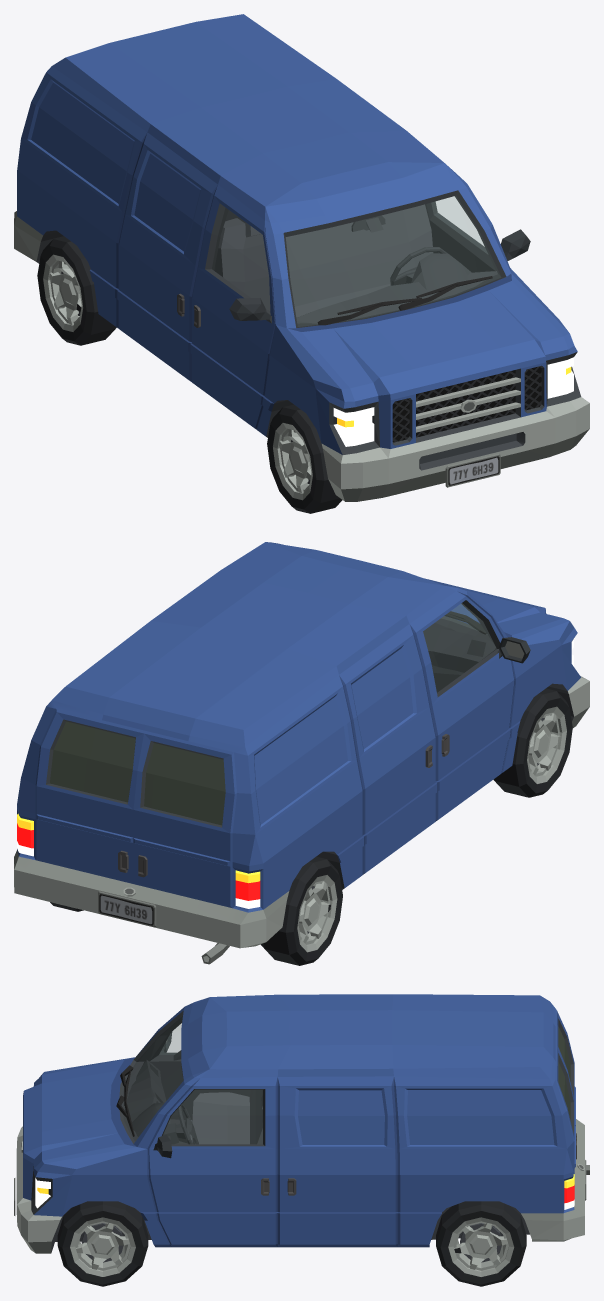
The model's file is SM_Veh_Car_Van_01.fbx.
3 renders of one model, top to bottom at view 1: azimuth 30°, elevation 25°; view 2: azimuth 150°, elevation 25°; view 3: azimuth 270°, elevation 25°, orthographic. The views are drawn at different scales.
Parts seen in each view (by area): view 1: SM_Veh_Car_Van_01, SM_Veh_Car_Van_Glass, SM_Veh_Car_Van_Wheel_rr, SM_Veh_Car_Van_Wheel_fr, SM_Veh_Car_Van_Plates; view 2: SM_Veh_Car_Van_01, SM_Veh_Car_Van_Door_r, SM_Veh_Car_Van_Door_l, SM_Veh_Car_Van_Wheel_rr, SM_Veh_Car_Van_Wheel_fr, SM_Veh_Car_Van_Door_r_Glass, SM_Veh_Car_Van_Door_l_Glass, SM_Veh_Car_Van_Glass, SM_Veh_Car_Van_Plates; view 3: SM_Veh_Car_Van_01, SM_Veh_Car_Van_Glass, SM_Veh_Car_Van_Wheel_rl, SM_Veh_Car_Van_Wheel_fl, SM_Veh_Car_Van_Door_l, SM_Veh_Car_Van_SteeringW, SM_Veh_Car_Van_Door_r.
Part boxes in pixels (<box>): SM_Veh_Car_Van_01: <box>14,14,589,501</box>; SM_Veh_Car_Van_Glass: <box>212,196,500,326</box>; SM_Veh_Car_Van_Wheel_rr: <box>37,236,116,345</box>; SM_Veh_Car_Van_Wheel_fr: <box>267,404,342,513</box>; SM_Veh_Car_Van_Plates: <box>445,453,500,487</box>; SM_Veh_Car_Van_01: <box>14,542,589,964</box>; SM_Veh_Car_Van_Door_r: <box>133,733,234,905</box>; SM_Veh_Car_Van_Door_l: <box>36,712,143,882</box>; SM_Veh_Car_Van_Wheel_rr: <box>260,856,342,965</box>; SM_Veh_Car_Van_Wheel_fr: <box>493,688,572,797</box>; SM_Veh_Car_Van_Door_r_Glass: <box>144,743,225,825</box>; SM_Veh_Car_Van_Door_l_Glass: <box>49,721,135,802</box>; SM_Veh_Car_Van_Glass: <box>423,604,495,691</box>; SM_Veh_Car_Van_Plates: <box>98,891,156,927</box>; SM_Veh_Car_Van_01: <box>16,994,589,1253</box>; SM_Veh_Car_Van_Glass: <box>123,1018,262,1143</box>; SM_Veh_Car_Van_Wheel_rl: <box>436,1201,526,1286</box>; SM_Veh_Car_Van_Wheel_fl: <box>57,1201,148,1286</box>; SM_Veh_Car_Van_Door_l: <box>557,1046,576,1167</box>; SM_Veh_Car_Van_SteeringW: <box>176,1103,198,1144</box>; SM_Veh_Car_Van_Door_r: <box>557,1011,576,1140</box>.
Bounding box in the file's own units: 247 × 203 × 504.
